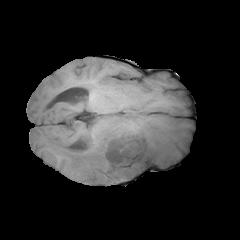glioma: (49, 112, 185, 184)
